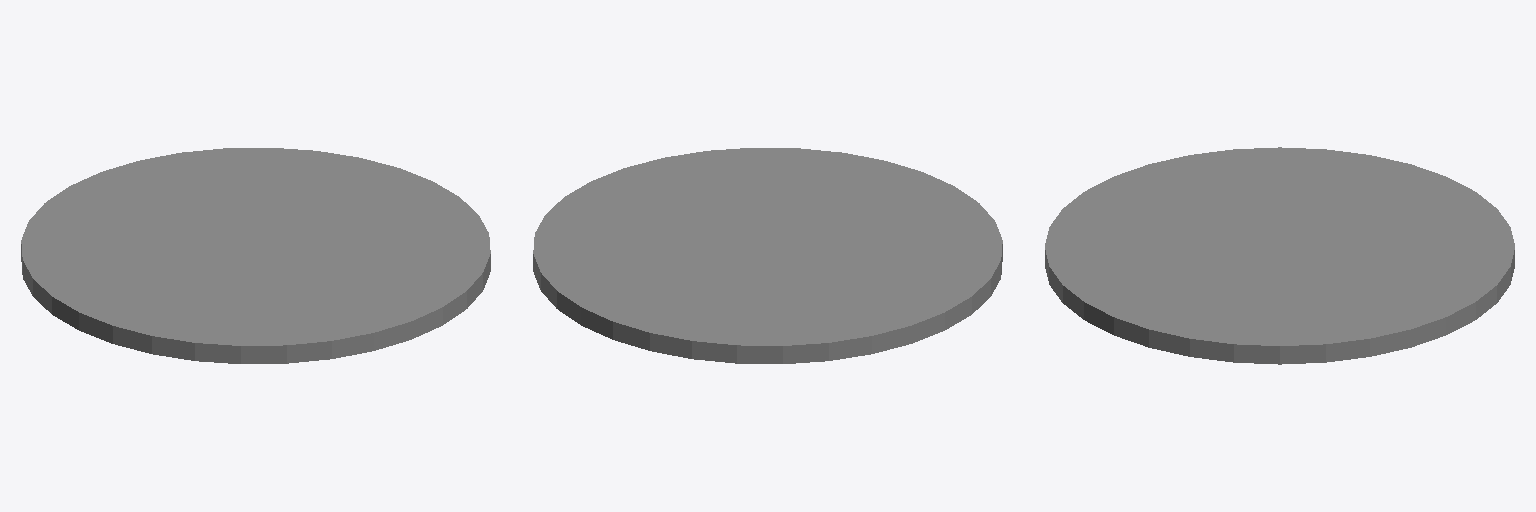
File: minispot.obj
The picture shows the model from 3 angles: view 1: azimuth 30°, elevation 25°; view 2: azimuth 150°, elevation 25°; view 3: azimuth 270°, elevation 25°; orthographic projection.
Parts seen in each view (by area): view 1: border; view 2: border; view 3: border.
Boxes of the visible parts, x1,y1,x2,y2 form: border: [21, 148, 490, 363]; border: [533, 148, 1002, 363]; border: [1045, 147, 1514, 364].
Bounding box in the file's own units: 7 × 0.3 × 7.